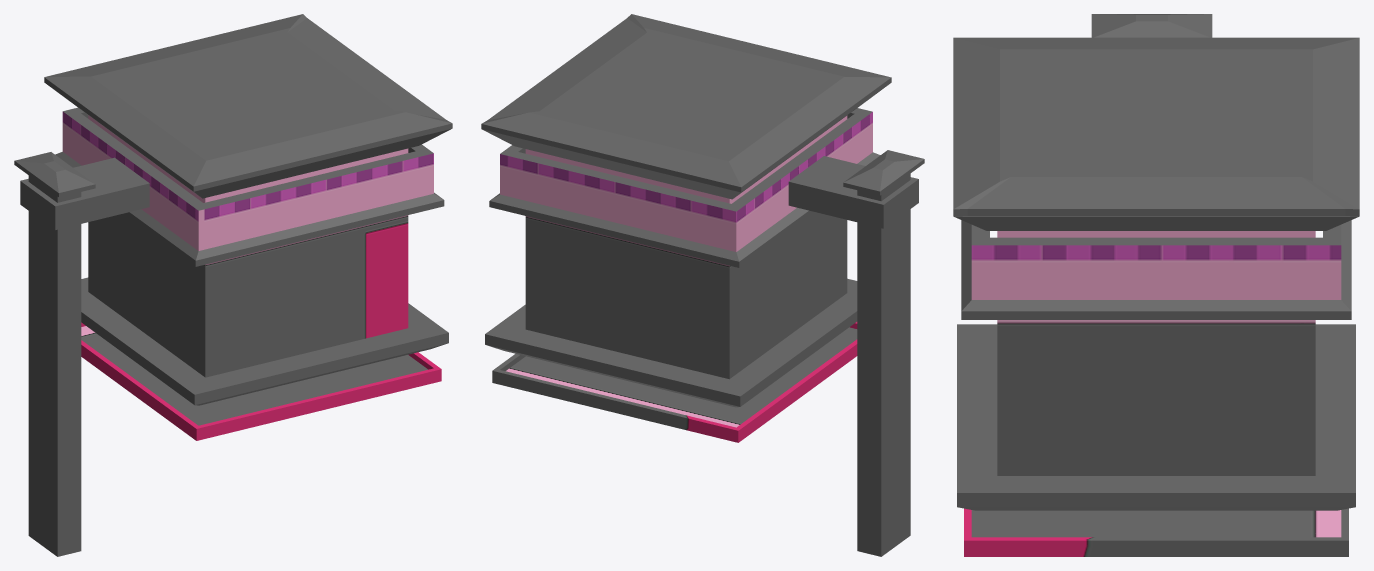
Rendered from engel_.fbx.
3 views of the same model, side by side, from view 1: azimuth 30°, elevation 25°; view 2: azimuth 150°, elevation 25°; view 3: azimuth 270°, elevation 25° (orthographic). The views are drawn at different scales.
Visible parts, largest first — view 1: Cube.002, Cube, Cube.001; view 2: Cube.002, Cube, Cube.001; view 3: Cube.002, Cube, Cube.001.
Boxes of the visible parts, x1,y1,x2,y2 form: Cube.002: (44, 14, 452, 405); Cube: (14, 107, 444, 556); Cube.001: (81, 322, 441, 440); Cube.002: (481, 14, 891, 407); Cube: (489, 108, 924, 556); Cube.001: (492, 322, 857, 442); Cube.002: (953, 37, 1359, 510); Cube: (961, 14, 1351, 319); Cube.001: (964, 508, 1348, 556).
Bounding box in the file's own units: 4.54 × 5.06 × 3.43.
1 material, 1 textured.
